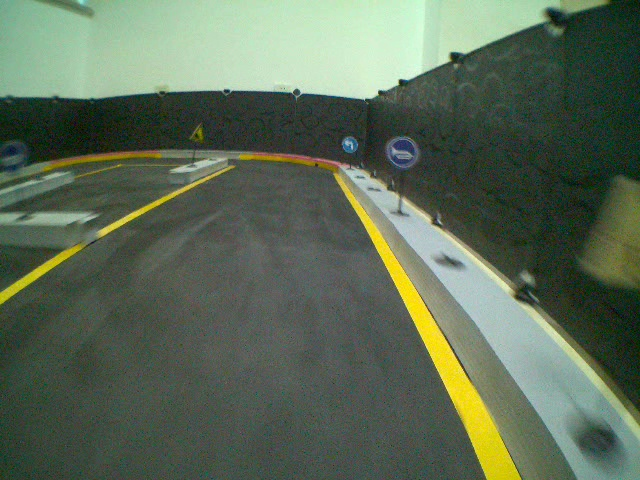fast: (188, 121, 208, 144)
horn: (385, 135, 420, 170)
turn: (340, 134, 358, 154)
